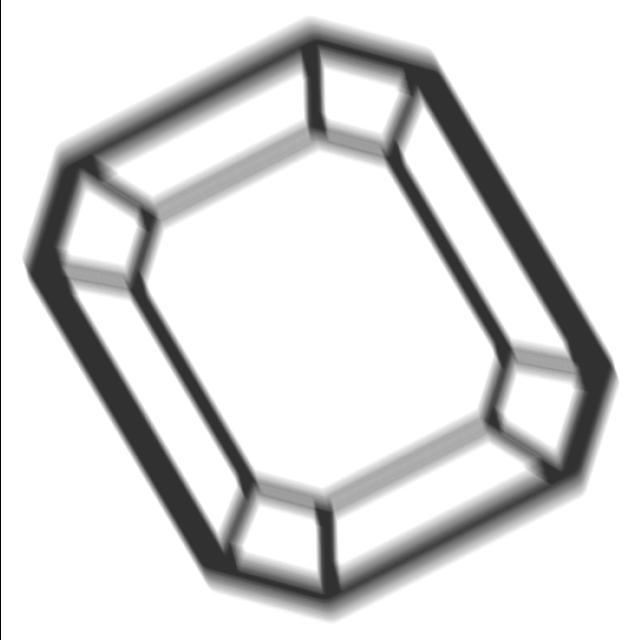emerald: (12, 10, 626, 626)
